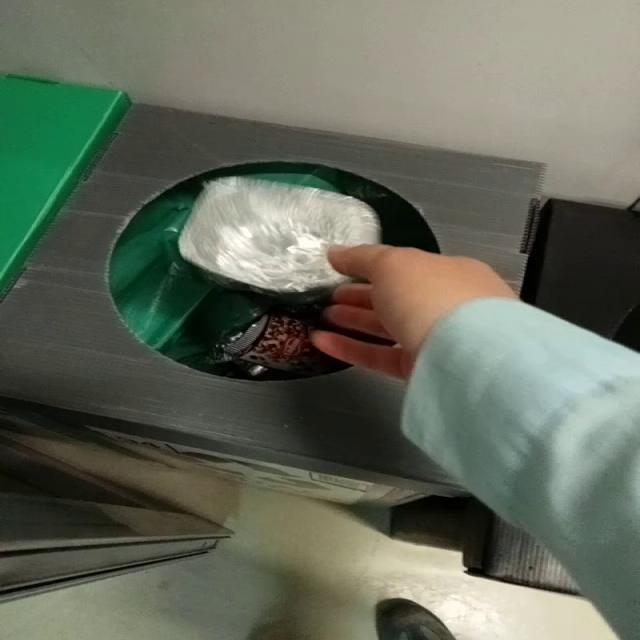Metal: (180, 176, 381, 304)
